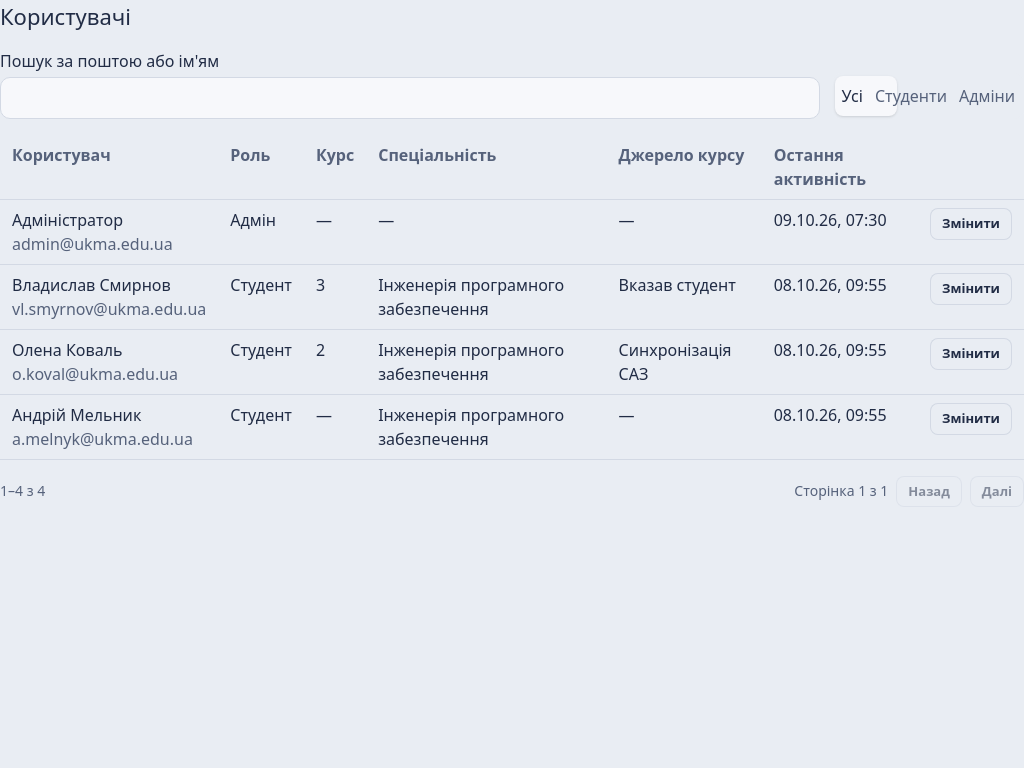
UserEditor › збереження надсилає лише змінені поля й закриває форму
Click the button "Змінити" in the row of "Владислав Смирнов". click: x=971, y=289
box: [930, 273, 1012, 304]
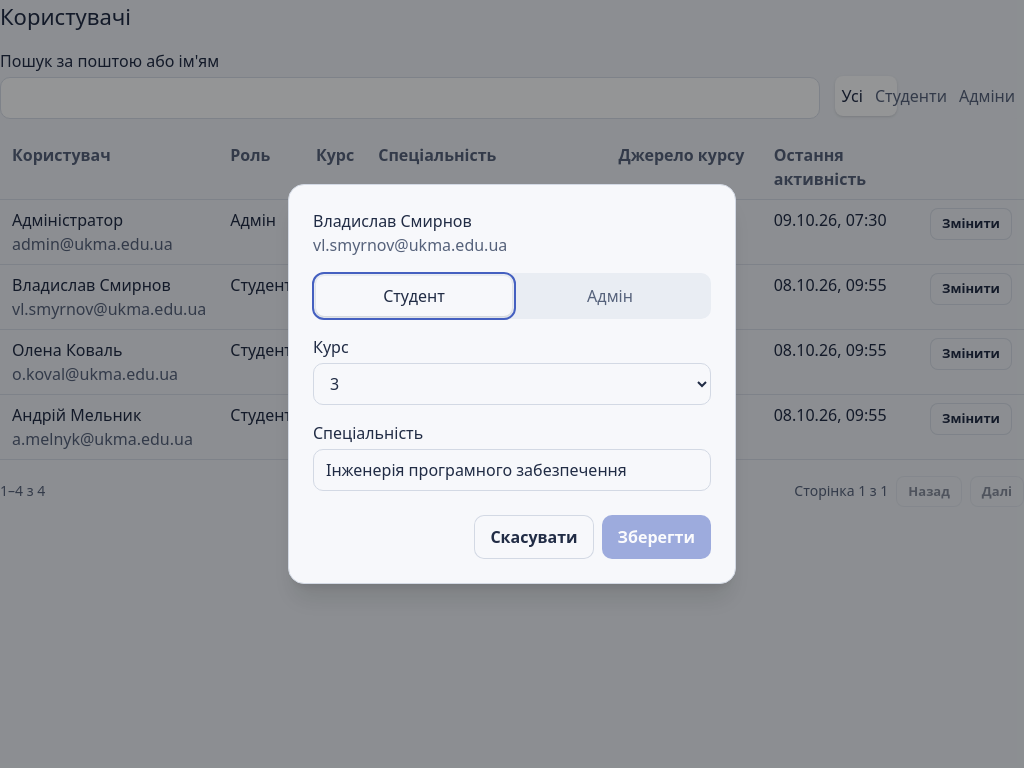
Select "4" in the dropdown labelled "Курс". click: x=512, y=384
box: [313, 363, 711, 405]
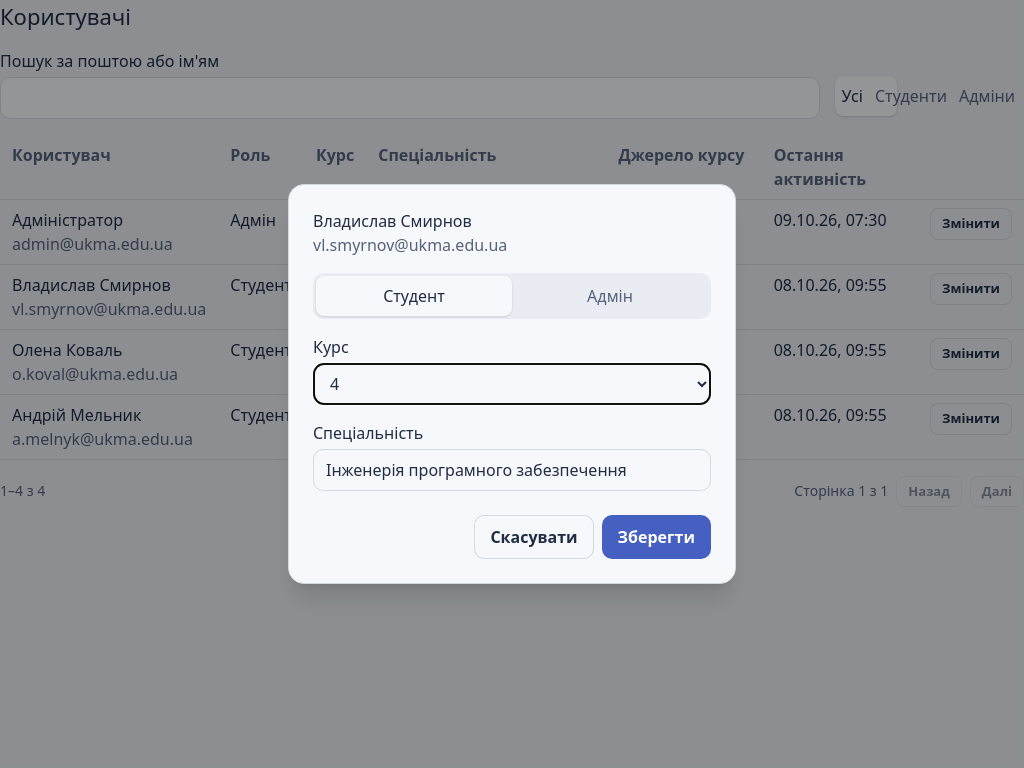
Click the button "Зберегти". click: x=656, y=537
box: [602, 515, 711, 559]
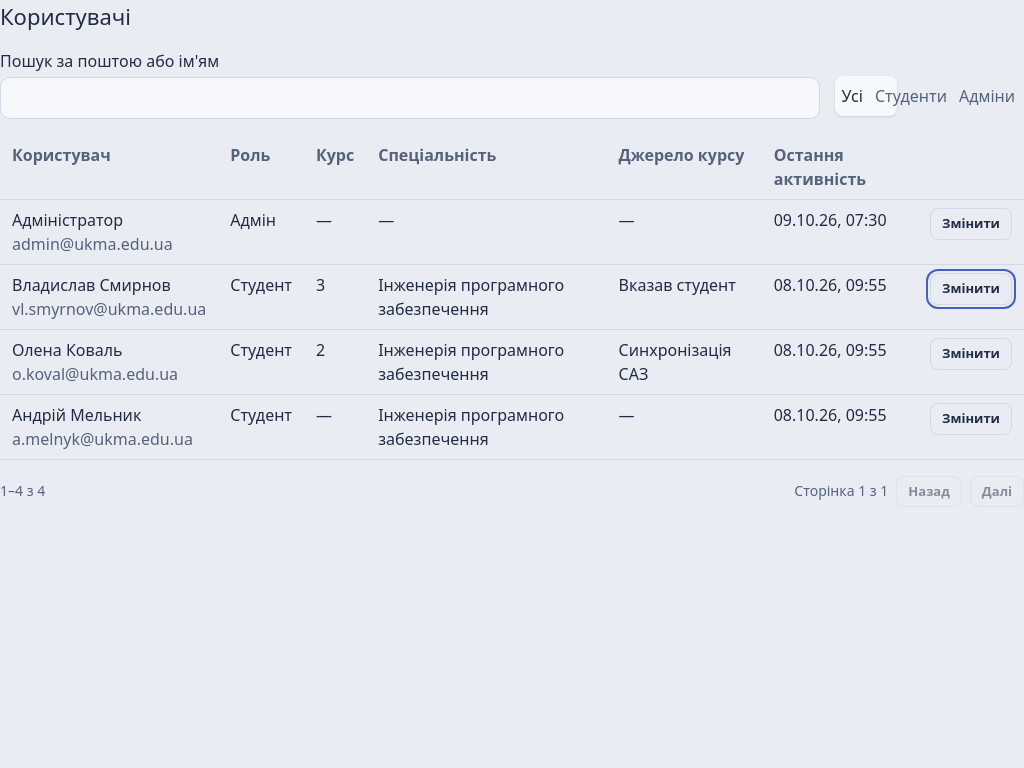
Expected: the dialog is gone
